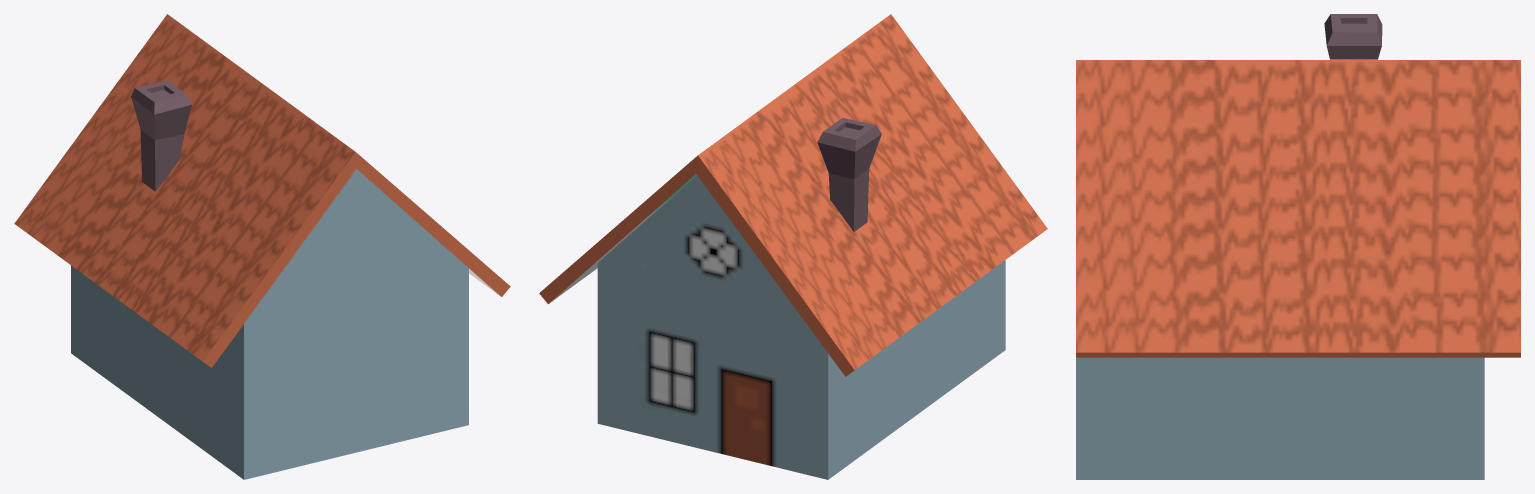
File: FarmHouse_V1.fbx
The picture shows the model from 3 angles, left to right: view 1: azimuth 30°, elevation 25°; view 2: azimuth 150°, elevation 25°; view 3: azimuth 270°, elevation 25°; orthographic projection. The views are drawn at different scales.
Parts seen in each view (by area): view 1: pCube13; view 2: pCube13; view 3: pCube13.
Boxes of the visible parts, x1,y1,x2,y2 form: pCube13: [14, 14, 510, 479]; pCube13: [539, 14, 1047, 479]; pCube13: [1076, 14, 1520, 479].
Size of the model in its own units: 8.22 by 7.67 by 8.71.
